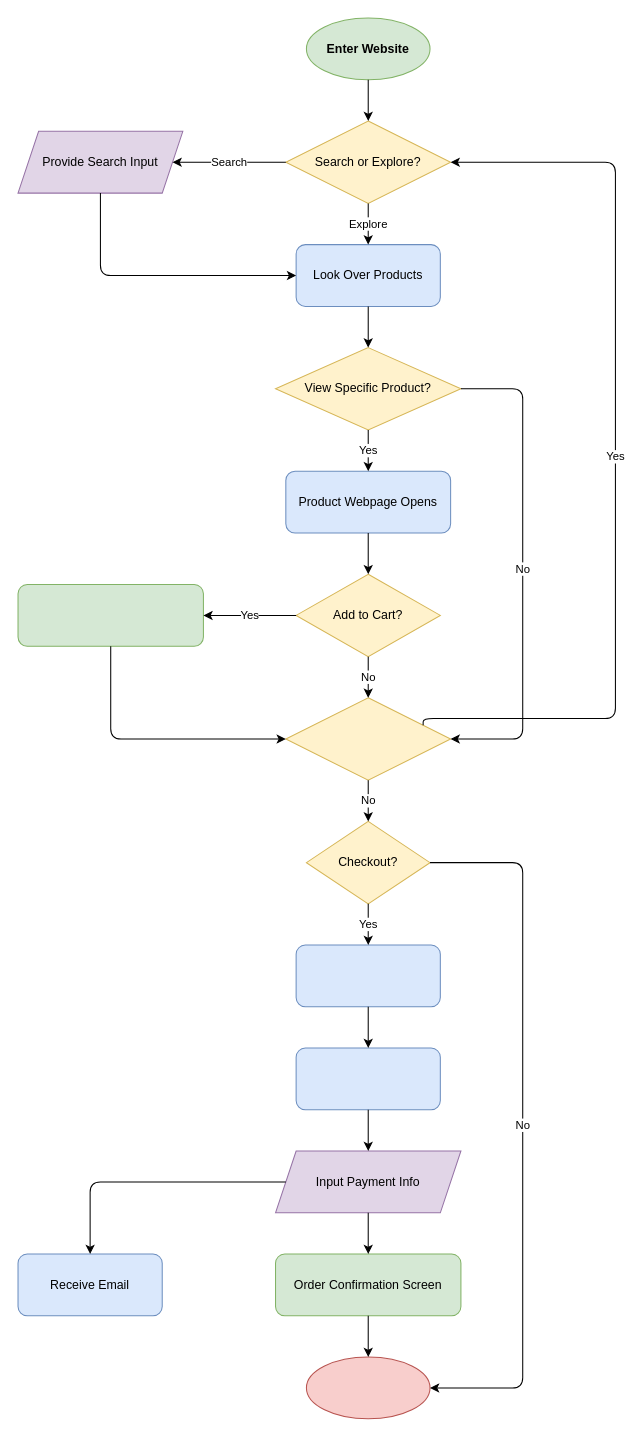
The diagram is 643 pixels wide and 1437 high, and some of its shapes have lost their labels. Each missing label, with the centre of its shape:
Added to Cart Confirmation: (110,614)
Continue Shopping?: (368,738)
Leave Website: (367,1387)
View Cart Screen: (367,975)
View Payment Screen: (367,1078)
